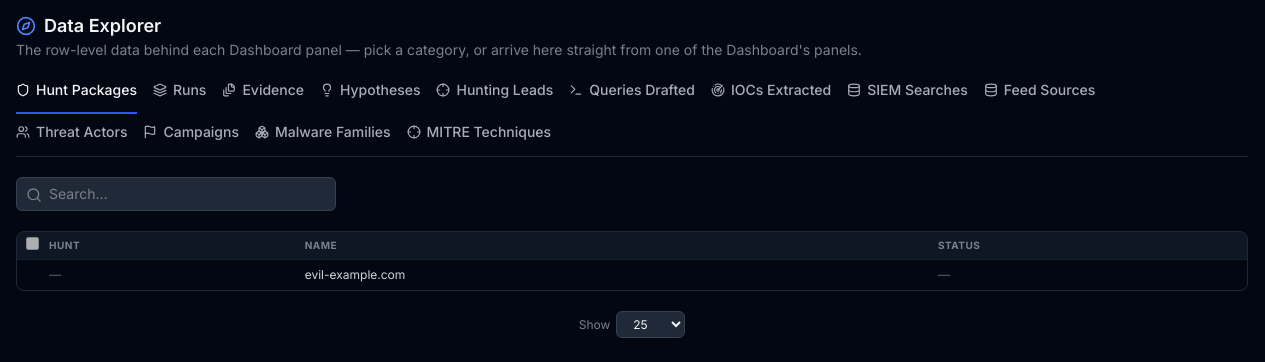
Test: DataExplorer — Feed Sources rebuilt as evidence-source aggregation (issue-local-034) › shows Source/Entries/Hunts columns from the new {name, count, sources} shape
The image size is (1265, 362).
Click the button "Feed Sources": [1040, 97] box [984,80,1095,114]
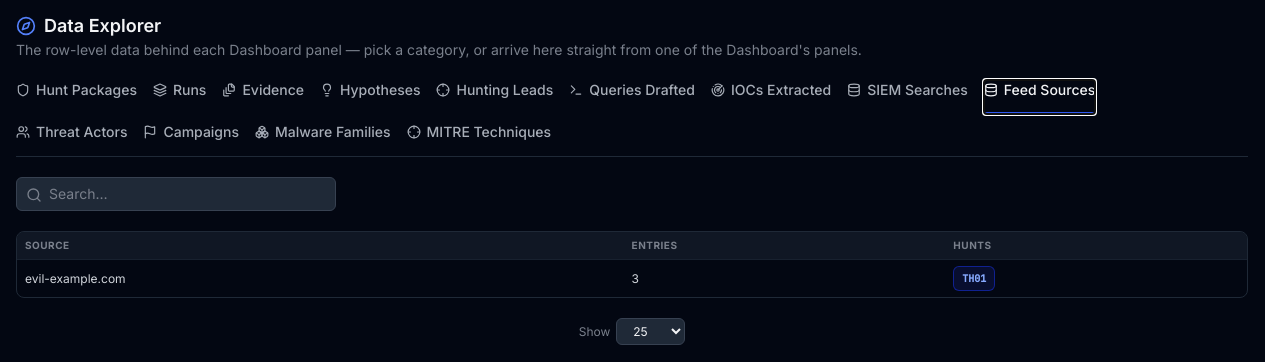
Expected: the text "evil-example.com" is shown, [17,260,624,297]
Expected: the text "3" is shown, [624,260,945,297]
Expected: the button "TH01" is shown, [953,266,995,291]
